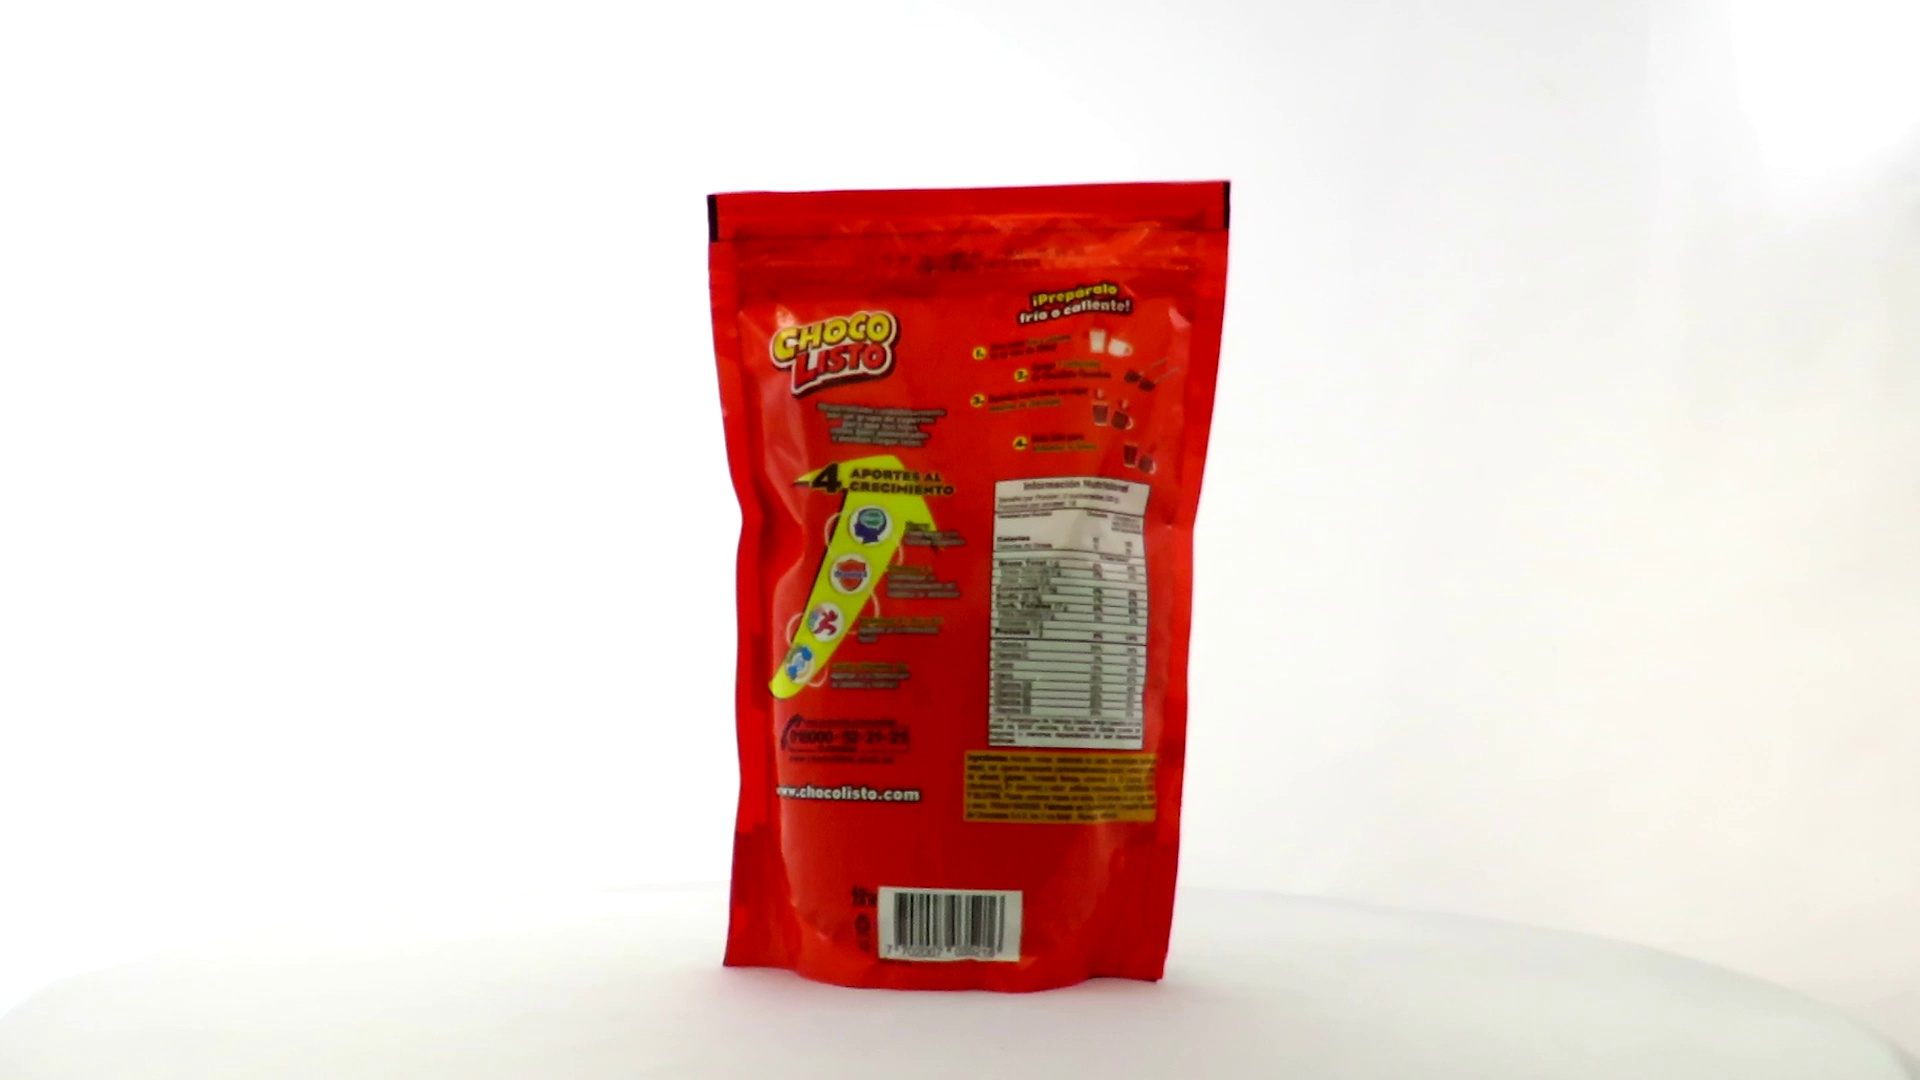COL0170103DYP36000: (702, 175, 1237, 1000)
